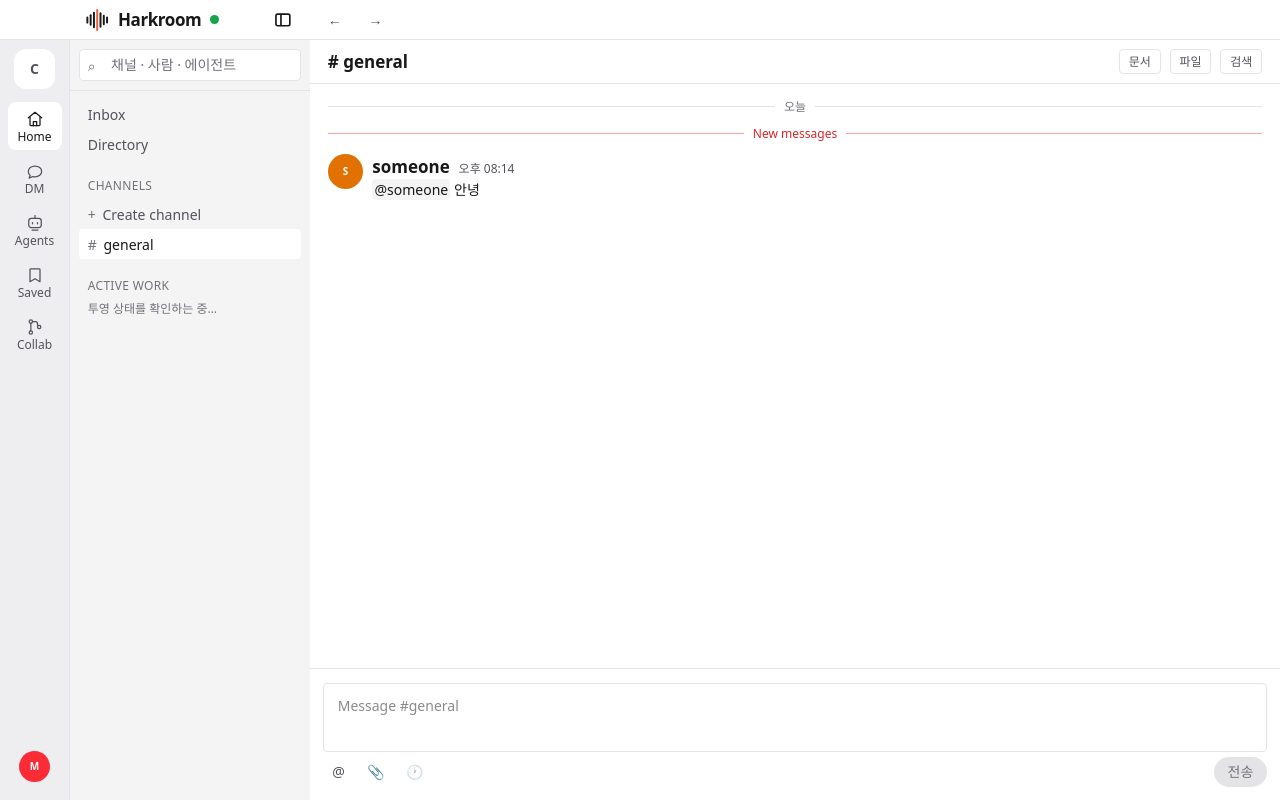
Test: 멘션 클릭 배선 — Workspace 를 통째로 (#279) › 사람 멘션을 누르면 그 사람의 프로필이 열린다
The width and height of the screenshot is (1280, 800).
What coordinates should you click on to do the following:
click the button with test id "mention-someone"
I would click on:
 (411, 190)
Its box is 372,179 -> 450,200.
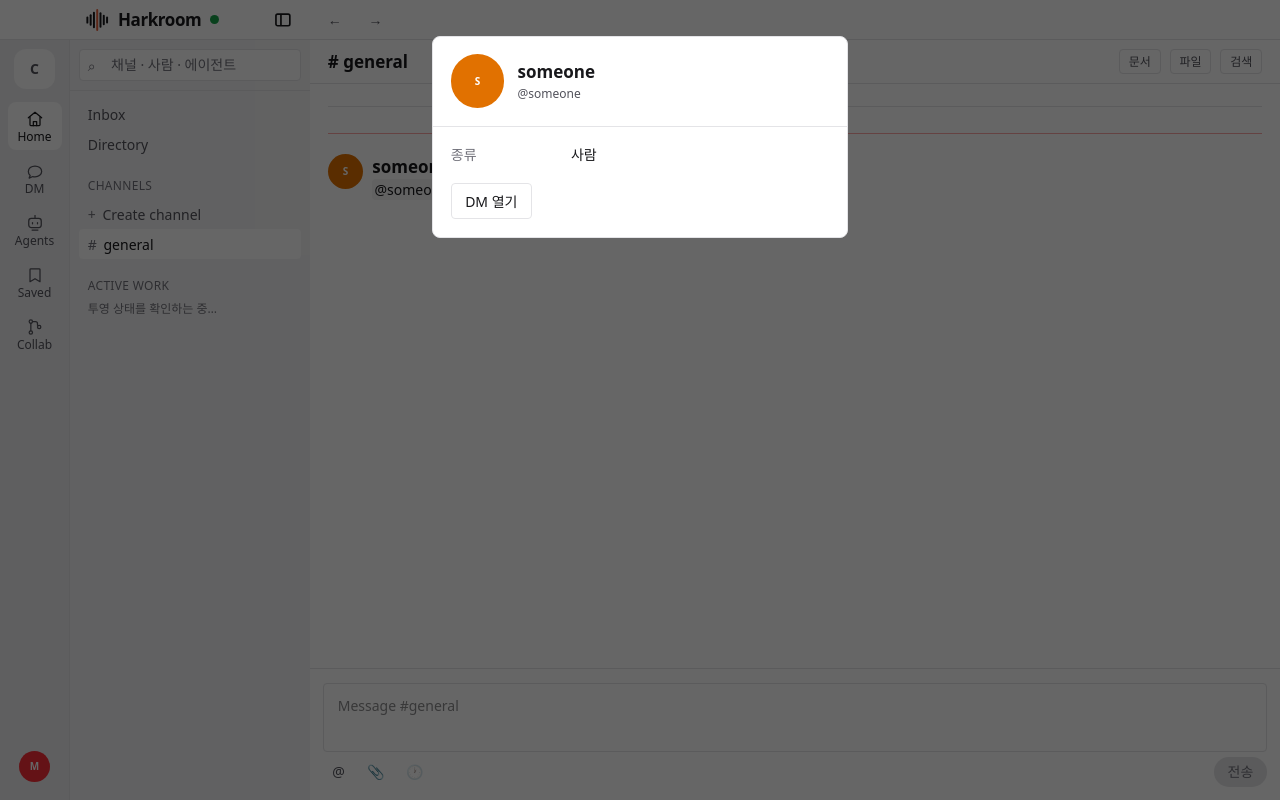
Check: the dialog named "someone 프로필" is shown, box 432,36 -> 848,238
